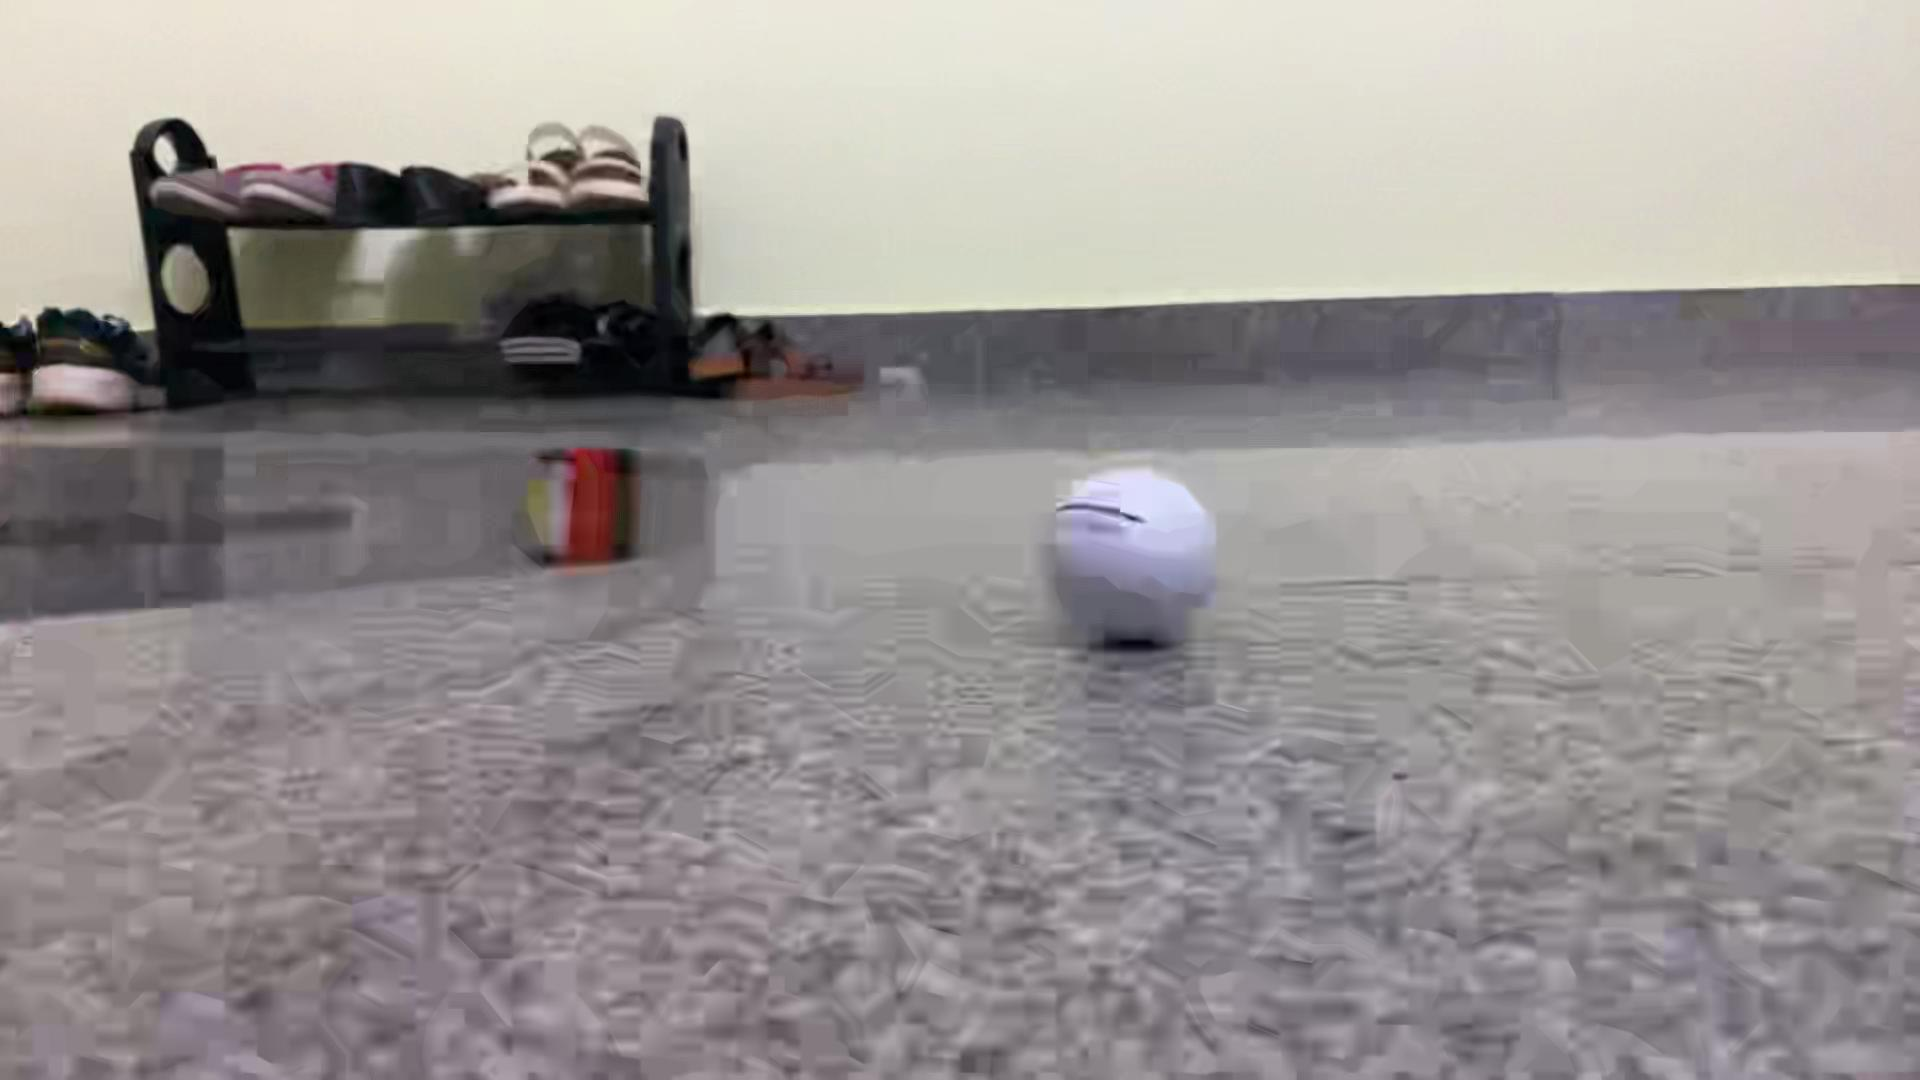golfball: (1041, 464, 1221, 639)
